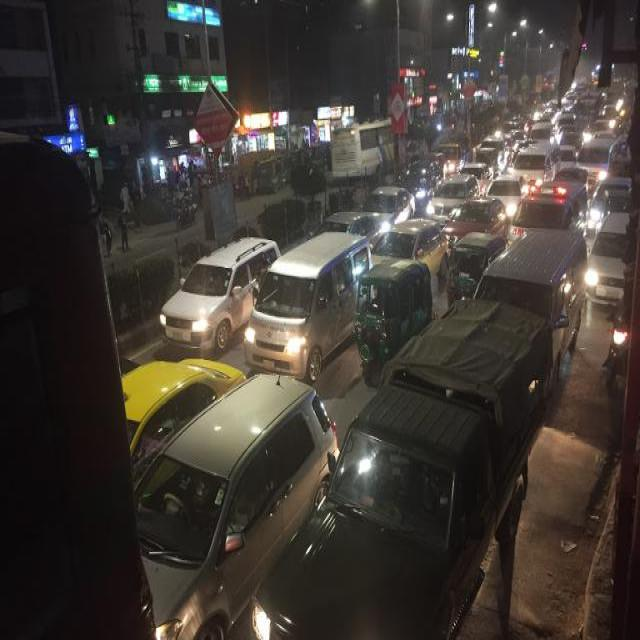Car: (131, 370, 340, 638)
Truck: (246, 295, 553, 637)
